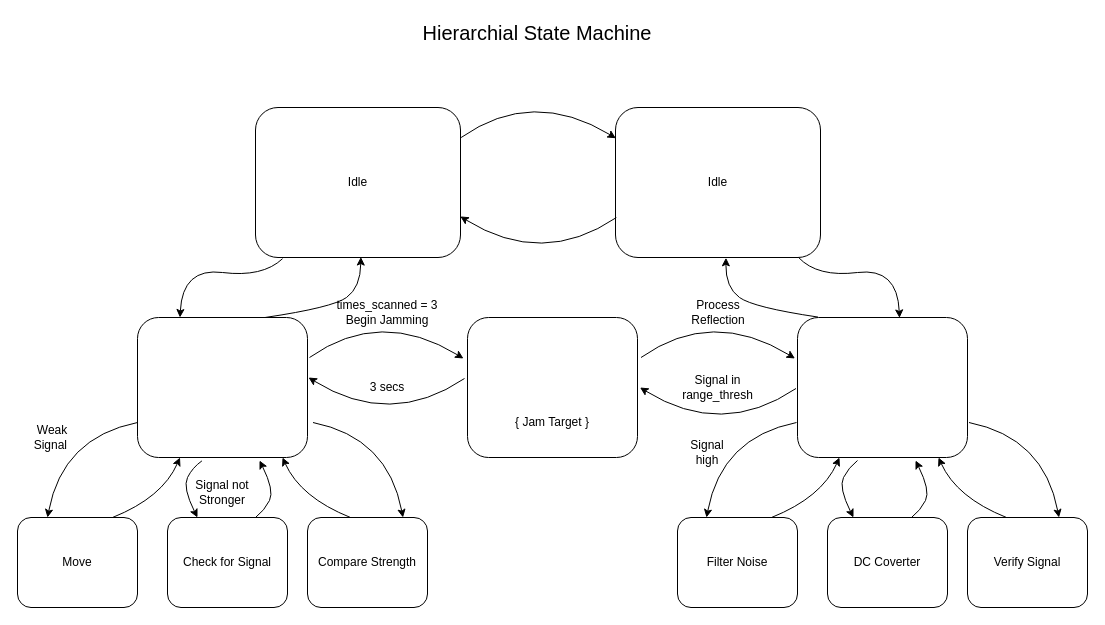
This 1105x625 diagram has some shape labels left out. Each missing label, with the box of its shape:
Jamming: (466, 316, 638, 458)
Scanning: (136, 316, 308, 458)
Signal Processing: (796, 316, 968, 458)
